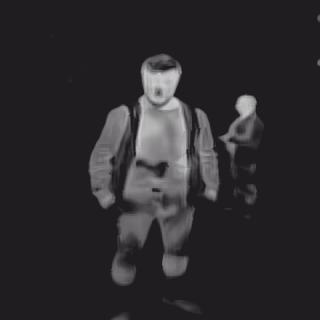Gun: (135, 158, 170, 194)
